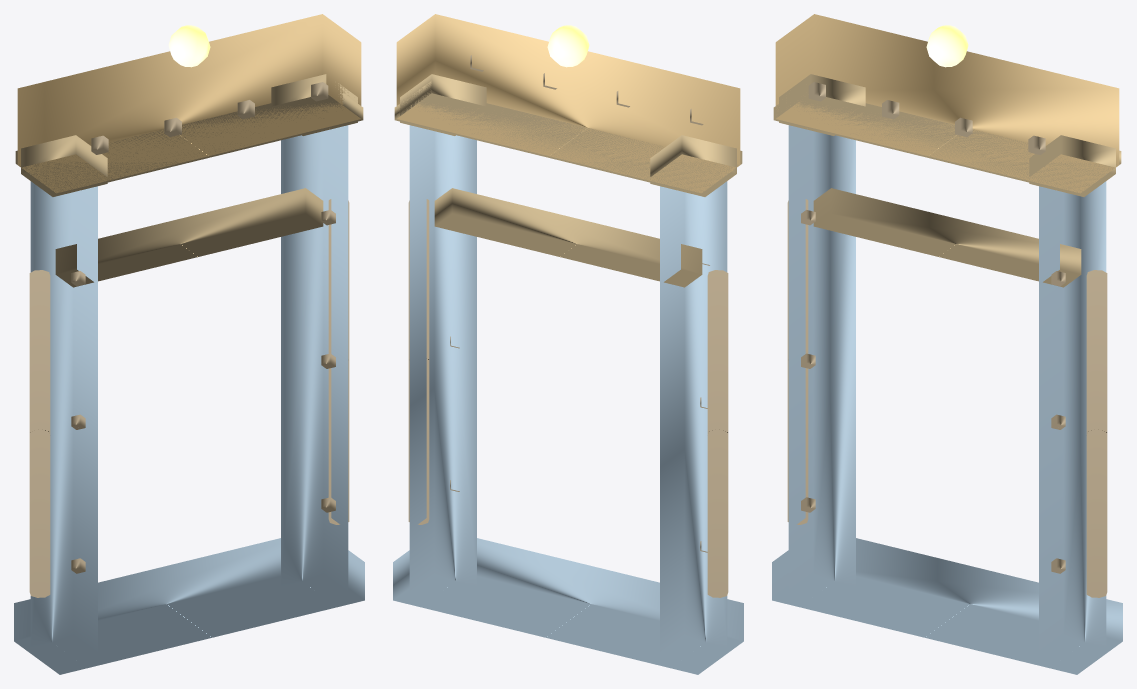
File: press_frame.glb
3 renders of one model, left to right at view 1: azimuth 30°, elevation 25°; view 2: azimuth 150°, elevation 25°; view 3: azimuth 330°, elevation 25°, orthographic.
Bounding box in the file's own units: 104 × 186 × 26.
